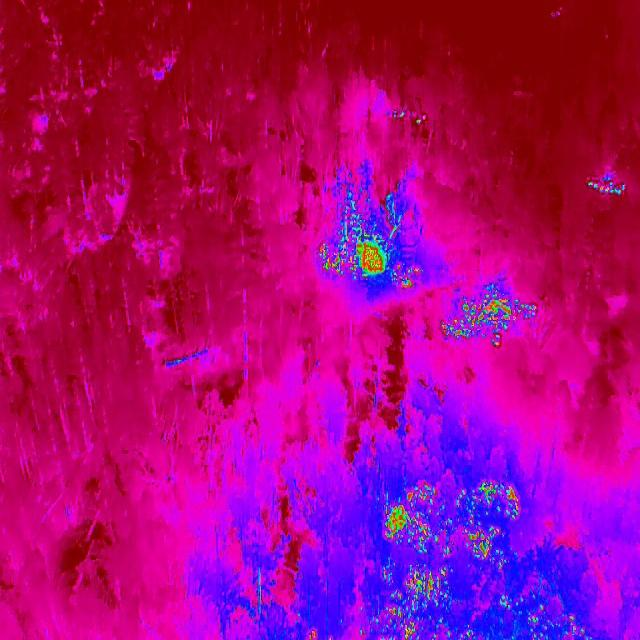fire: (437, 273, 545, 355), (316, 221, 427, 291), (385, 484, 438, 555), (475, 479, 523, 521), (404, 561, 452, 601), (583, 170, 631, 201), (462, 526, 499, 562), (386, 606, 417, 640), (415, 116, 423, 126)
